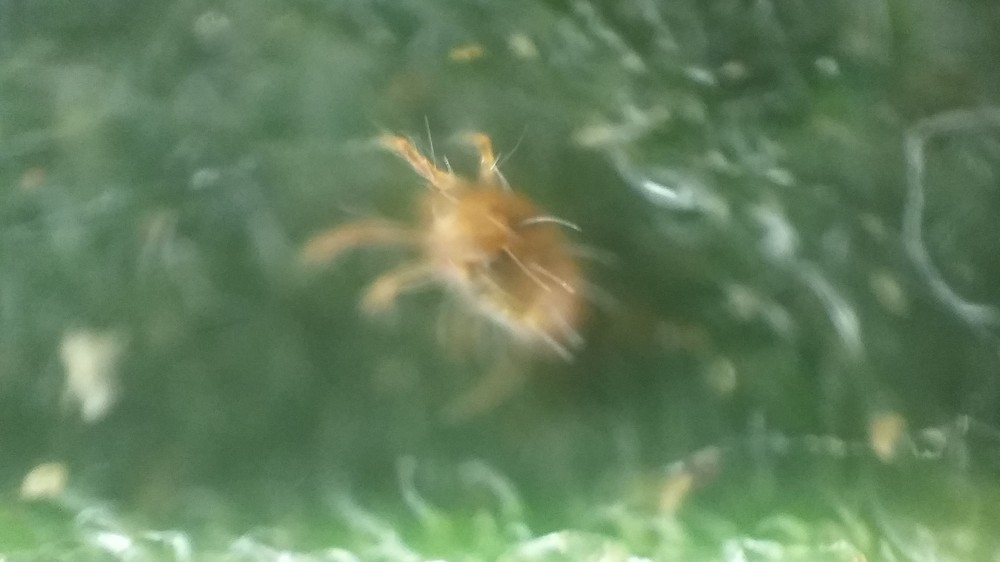Aracnido Rojo: (305, 114, 670, 427)
